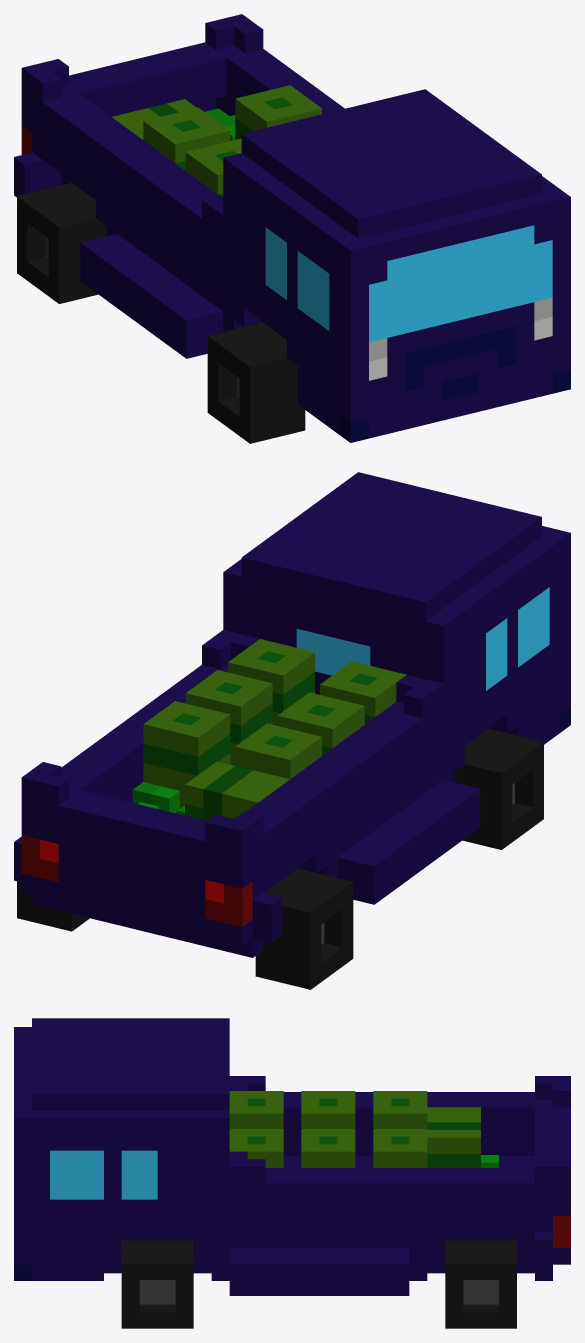
File: truck1.obj
3 renders of one model, top to bottom at view 1: azimuth 30°, elevation 25°; view 2: azimuth 150°, elevation 25°; view 3: azimuth 270°, elevation 25°, orthographic. The views are drawn at different scales.
Size of the model in its own units: 1.6 by 1.3 by 3.1.
Materials: 1 (1 with a texture image).
